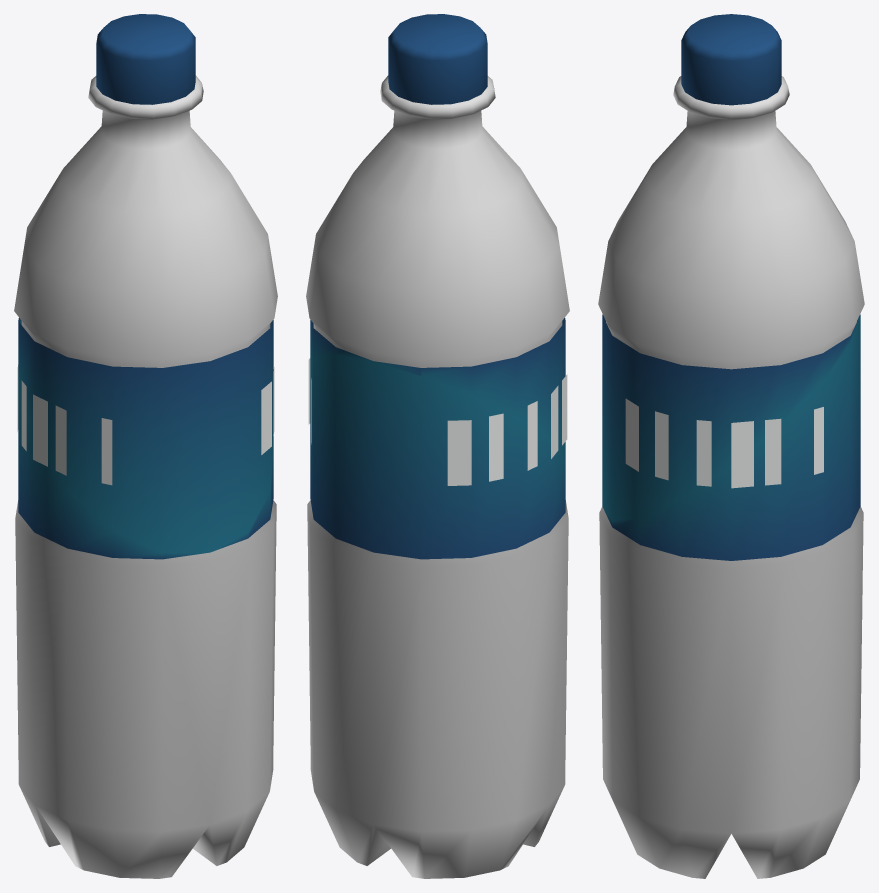
Rendered from consumables-drinks-waterbottle_v1.fbx.
The picture shows the model from 3 angles, left to right: view 1: azimuth 30°, elevation 25°; view 2: azimuth 150°, elevation 25°; view 3: azimuth 270°, elevation 25°; orthographic projection.
Visible parts, largest first — view 1: WaterBottle_refl, WaterBottle_base; view 2: WaterBottle_refl, WaterBottle_base; view 3: WaterBottle_refl, WaterBottle_base.
Part boxes in pixels (box(x1,y1,x2,y2)): WaterBottle_refl: box(14, 75, 277, 878); WaterBottle_base: box(17, 14, 274, 559); WaterBottle_refl: box(306, 75, 569, 878); WaterBottle_base: box(308, 14, 567, 559); WaterBottle_refl: box(598, 76, 864, 878); WaterBottle_base: box(602, 14, 860, 560).
Bounding box in the file's own units: 0.00464 × 0.0155 × 0.00464.
